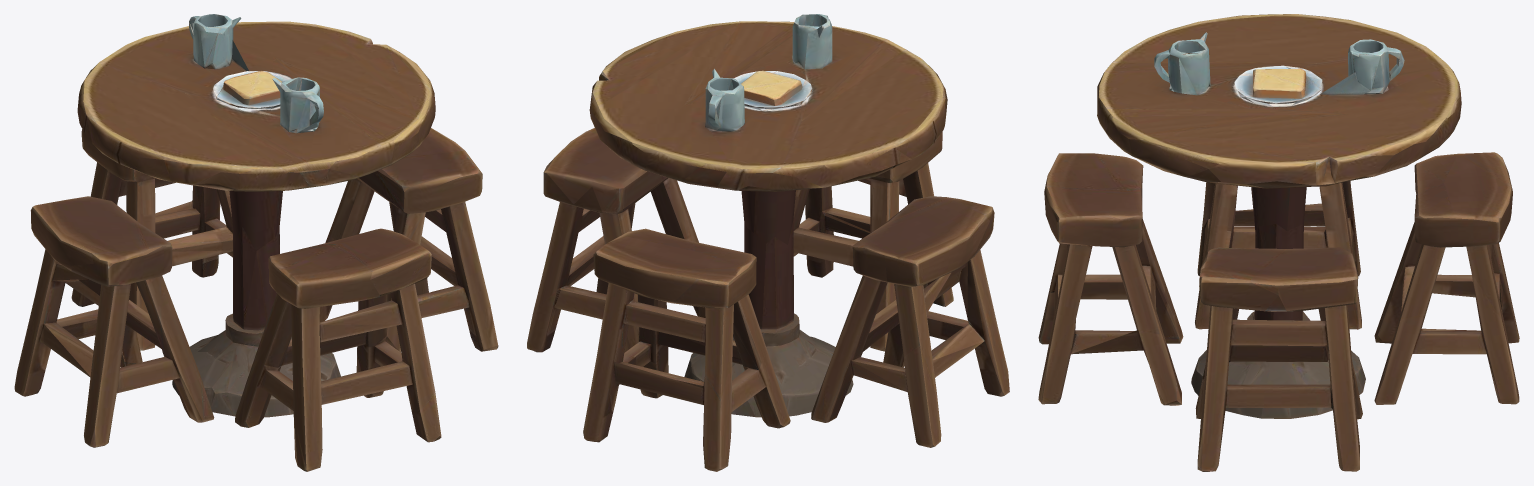
Rendered from table_set.glb.
The picture shows the model from 3 angles, left to right: view 1: azimuth 30°, elevation 25°; view 2: azimuth 150°, elevation 25°; view 3: azimuth 270°, elevation 25°; orthographic projection. The views are drawn at different scales.
Visible parts, largest first — view 1: table_set; view 2: table_set; view 3: table_set.
Boxes of the visible parts, bbox=[...] form: table_set: bbox=[14, 14, 498, 471]; table_set: bbox=[527, 14, 1009, 471]; table_set: bbox=[1038, 14, 1519, 471].
Size of the model in its own units: 1.41 by 1.1 by 1.41.
Materials: 1 (1 with a texture image).
